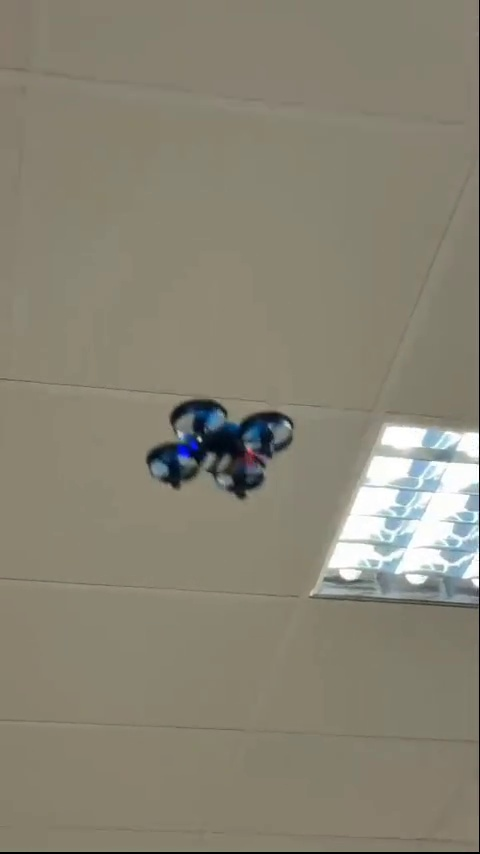drone: (149, 403, 292, 505)
